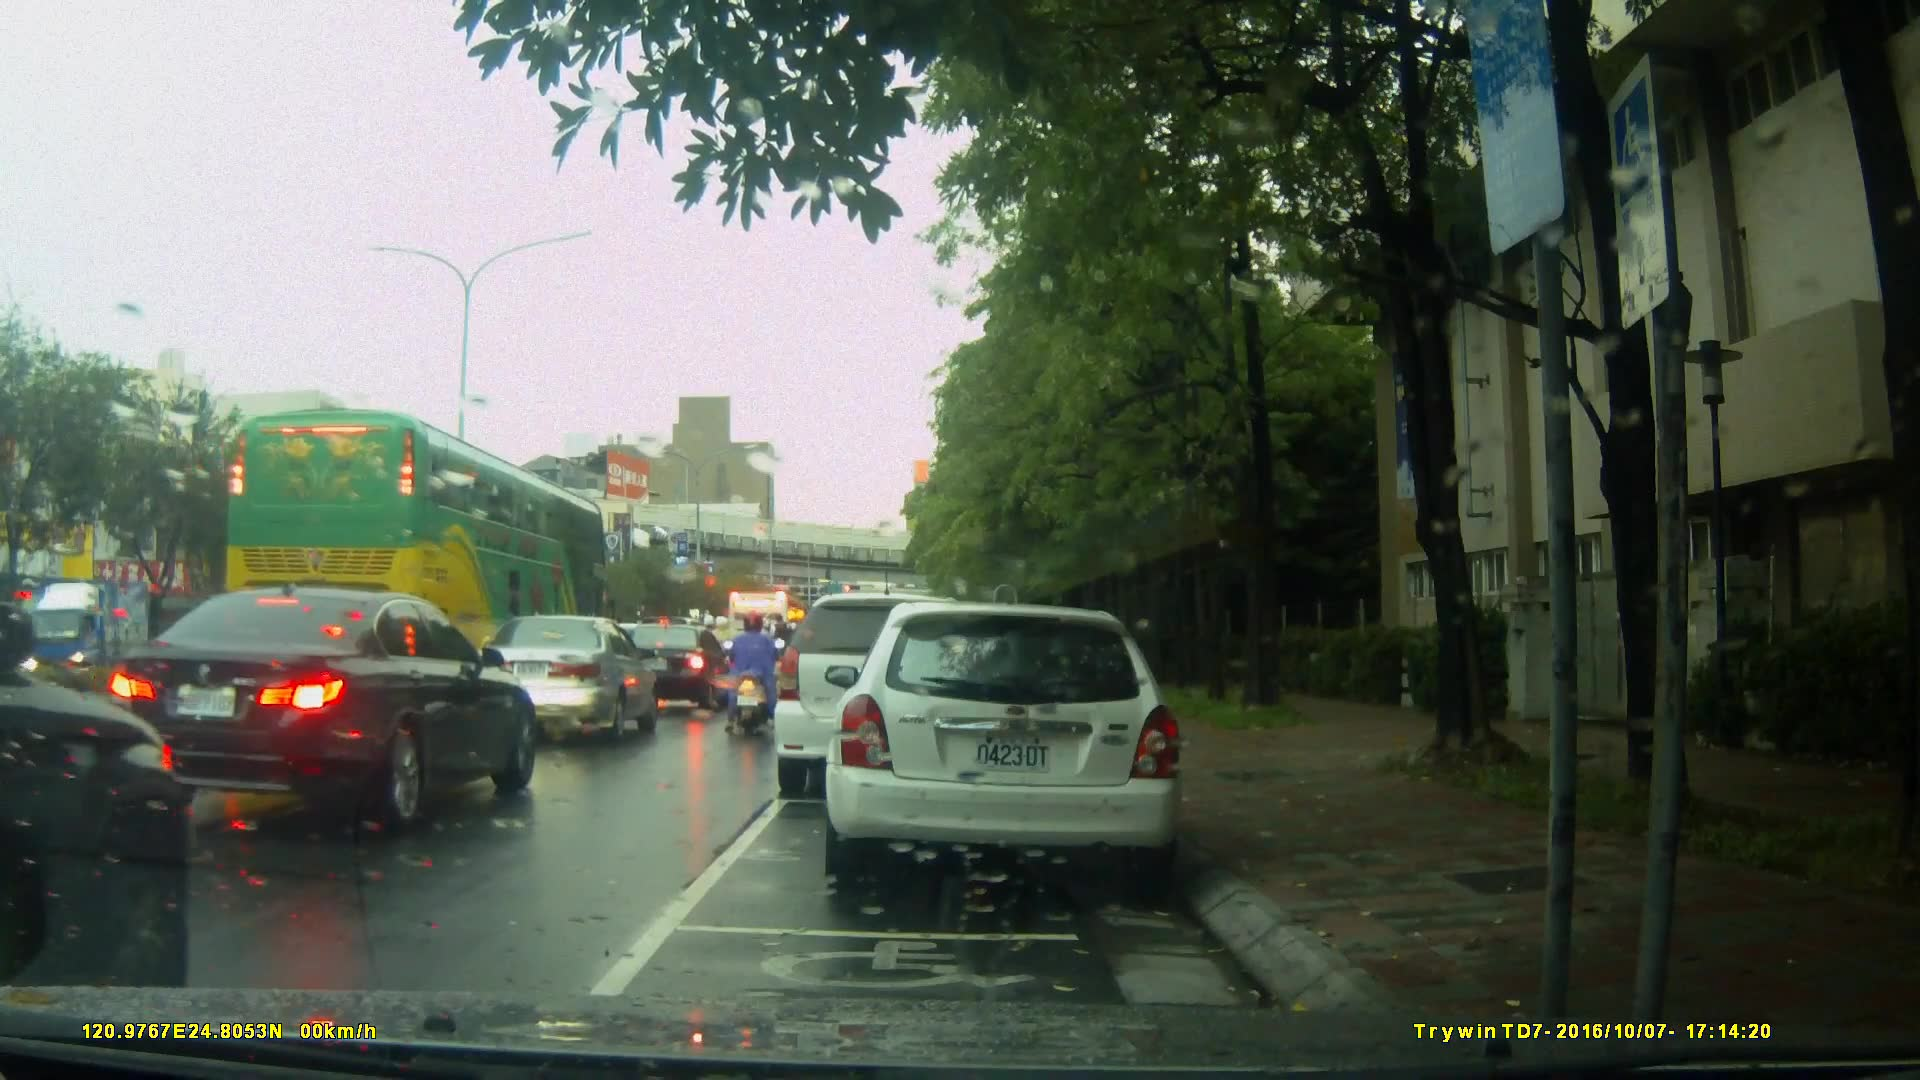rider: (717, 605, 779, 732)
vehicle: (831, 592, 1196, 897), (103, 585, 543, 832), (219, 405, 608, 657), (771, 592, 999, 796), (473, 613, 655, 748), (617, 623, 731, 714), (719, 586, 802, 705)
